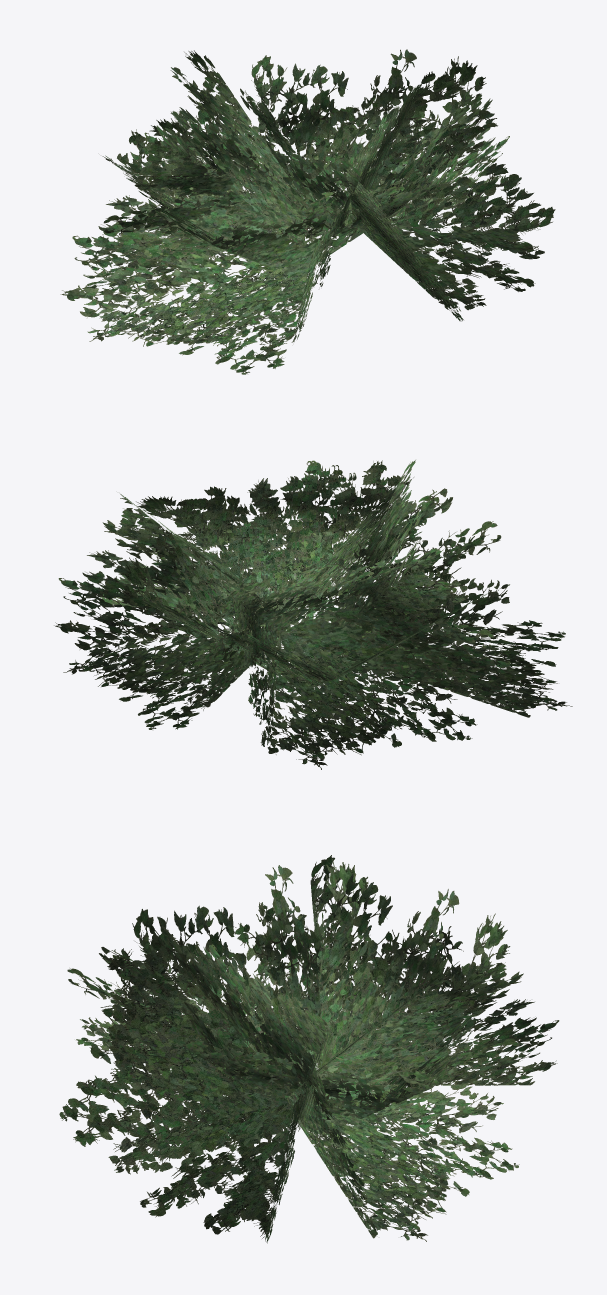
File: shrb_giantlickbush_a1_l2.fbx
3 renders of one model, top to bottom at view 1: azimuth 30°, elevation 25°; view 2: azimuth 150°, elevation 25°; view 3: azimuth 270°, elevation 25°, orthographic. The views are drawn at different scales.
Visible parts, largest first — view 1: mesh_node; view 2: mesh_node; view 3: mesh_node.
Part boxes in pixels (<box>): mesh_node: <box>60,49,555,374</box>; mesh_node: <box>54,460,572,769</box>; mesh_node: <box>59,855,559,1243</box>.
Bounding box in the file's own units: 4.75 × 1.65 × 3.8.
Materials: 1 (1 with a texture image).
